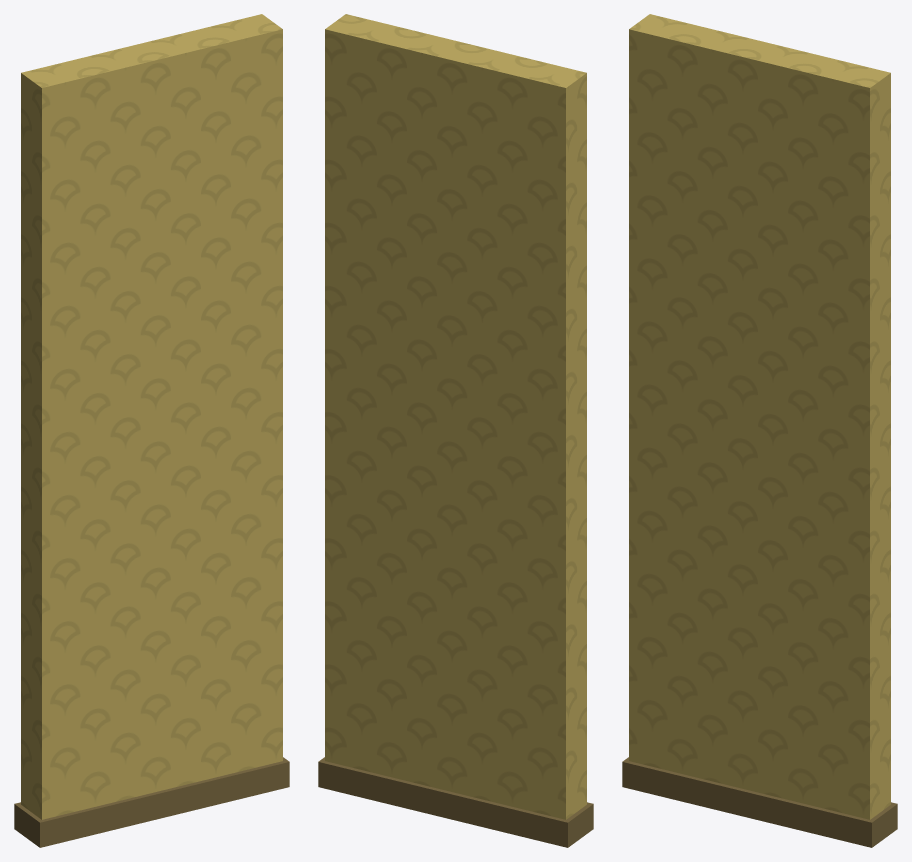
File: BackRoomsWall01Straigh04.FBX
3 renders of one model, left to right at view 1: azimuth 30°, elevation 25°; view 2: azimuth 150°, elevation 25°; view 3: azimuth 330°, elevation 25°, orthographic.
Visible parts, largest first — view 1: BackRoomsWall01Straigh04; view 2: BackRoomsWall01Straigh04; view 3: BackRoomsWall01Straigh04.
Part boxes in pixels (left/top/right/bottom): BackRoomsWall01Straigh04: left=14, top=14, right=289, bottom=847; BackRoomsWall01Straigh04: left=318, top=14, right=593, bottom=847; BackRoomsWall01Straigh04: left=622, top=14, right=897, bottom=847.
Bounding box in the file's own units: 104 × 18.54 × 300.
